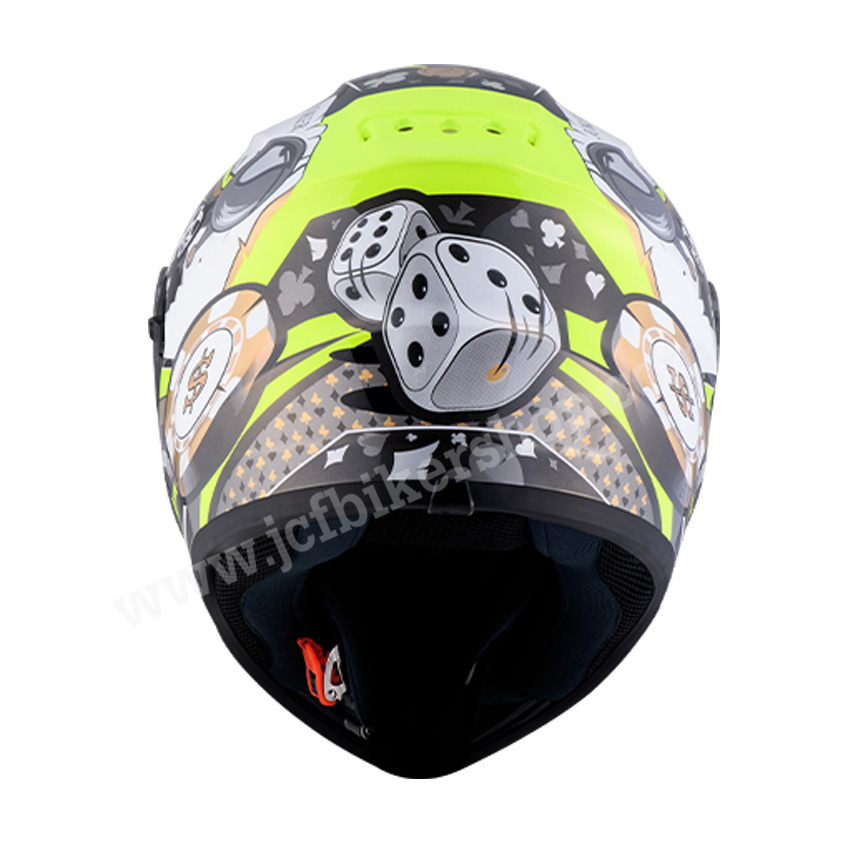helmet: (147, 64, 718, 778)
